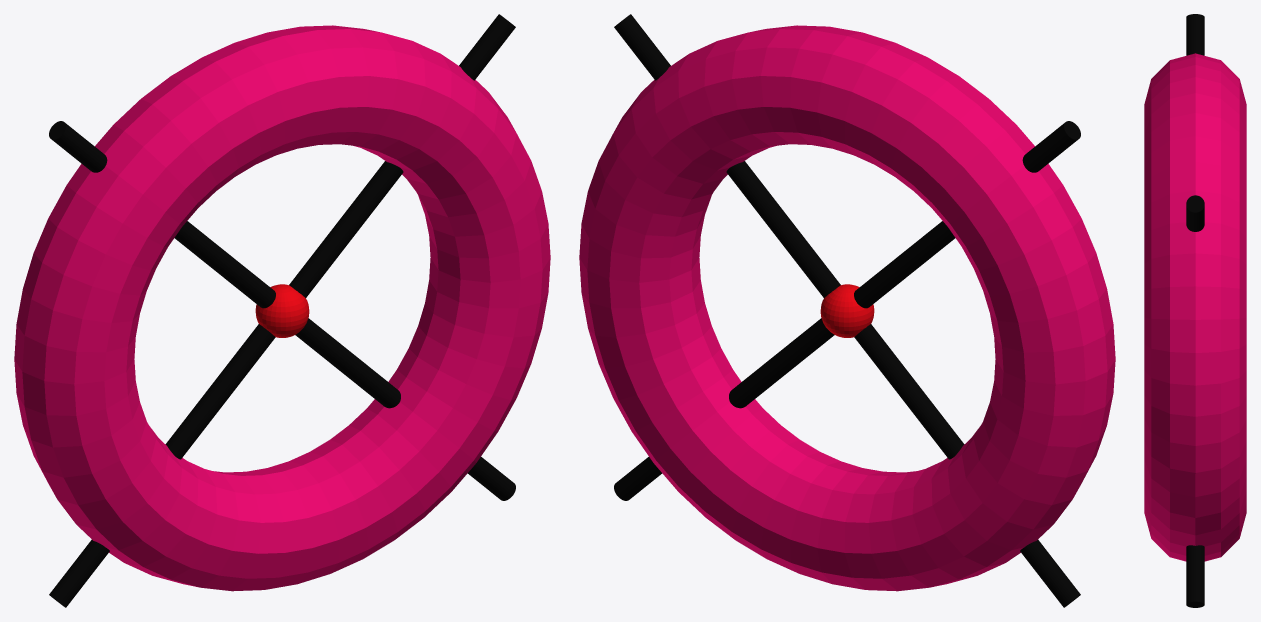
File: Sniper.fbx
3 renders of one model, left to right at view 1: azimuth 30°, elevation 25°; view 2: azimuth 150°, elevation 25°; view 3: azimuth 270°, elevation 25°, orthographic. The views are drawn at different scales.
Visible parts, largest first — view 1: Torus.009, Cylinder.006, Cylinder, Sphere; view 2: Torus.009, Cylinder.006, Cylinder, Sphere; view 3: Torus.009, Cylinder, Cylinder.006.
Part boxes in pixels (x1,y1,x2,y2): Torus.009: (14, 25, 550, 591); Cylinder.006: (49, 14, 515, 607); Cylinder: (49, 121, 515, 500); Sphere: (255, 284, 309, 337); Torus.009: (579, 25, 1115, 591); Cylinder.006: (614, 14, 1080, 607); Cylinder: (614, 121, 1080, 500); Sphere: (820, 284, 874, 337); Torus.009: (1144, 53, 1246, 561); Cylinder: (1186, 14, 1204, 607); Cylinder.006: (1186, 195, 1204, 231).
Bounding box in the file's own units: 843 × 843 × 169.
